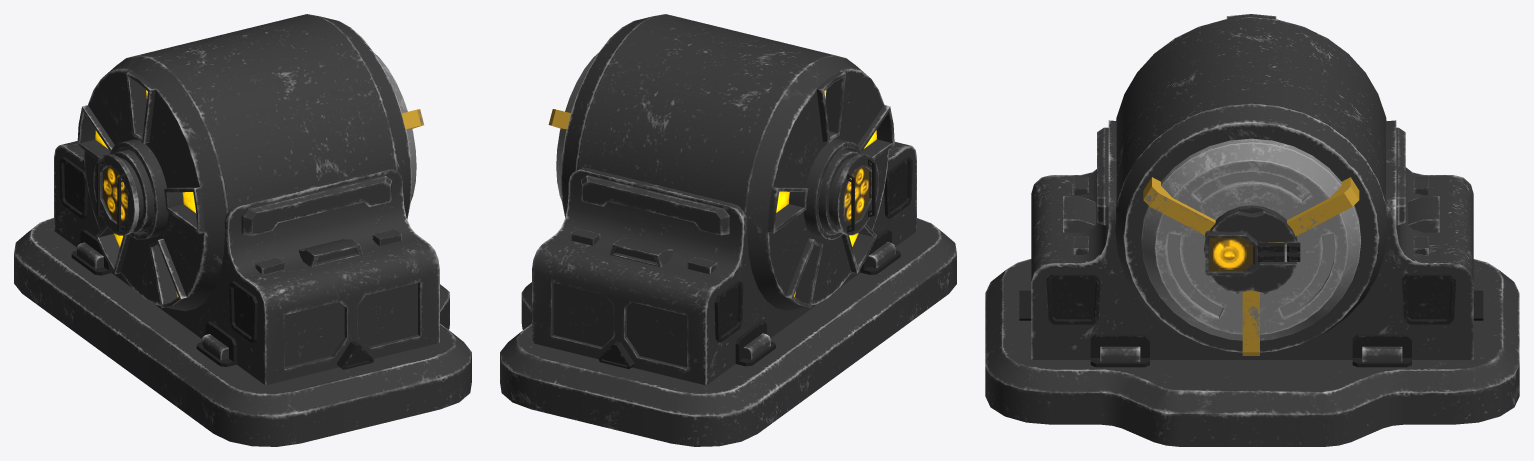
Rendered from simple_sci-fi_power_battery.glb.
The picture shows the model from 3 angles, left to right: view 1: azimuth 30°, elevation 25°; view 2: azimuth 150°, elevation 25°; view 3: azimuth 270°, elevation 25°; orthographic projection. The views are drawn at different scales.
Parts seen in each view (by area): view 1: Circle, Cube.004, Circle.001, Cube.005, Circle.004, Cube.012, Cube.008, Cube.006, Cube.011, Circle.002, Cube.007, Cube.010 (+1 smaller); view 2: Circle, Cube.004, Circle.001, Circle.004, Cube.005, Cube.012, Cube.008, Cube.006, Cube.011, Circle.002, Cube.007, Cube.010 (+1 smaller); view 3: Cube.004, Circle, Circle.001, Circle.002, Cube.012, Cube.003, Circle.003, Cube.008, Cube.006, Cube, Cube.005, Cube.011 (+3 smaller).
Part boxes in pixels (x1,y1,x2,y2): Circle: [77, 14, 411, 311]; Cube.004: [14, 217, 471, 446]; Circle.001: [54, 141, 439, 385]; Cube.005: [241, 174, 391, 235]; Circle.004: [93, 149, 153, 235]; Cube.012: [59, 157, 257, 343]; Cube.008: [71, 230, 236, 366]; Cube.006: [298, 239, 362, 267]; Cube.011: [76, 242, 228, 360]; Circle.002: [374, 53, 416, 201]; Cube.007: [255, 229, 401, 274]; Cube.010: [337, 341, 373, 369]; Circle: [561, 14, 894, 310]; Cube.004: [500, 218, 956, 446]; Circle.001: [532, 142, 916, 385]; Circle.004: [818, 149, 878, 235]; Cube.005: [581, 175, 729, 235]; Cube.012: [714, 157, 912, 342]; Cube.008: [735, 229, 900, 366]; Cube.006: [609, 238, 672, 267]; Cube.011: [743, 242, 895, 359]; Circle.002: [556, 53, 597, 201]; Cube.007: [571, 228, 717, 274]; Cube.010: [598, 341, 634, 368]; Cube.004: [985, 259, 1519, 446]; Circle: [1115, 14, 1387, 352]; Circle.001: [1031, 120, 1473, 359]; Circle.002: [1141, 138, 1360, 340]; Cube.012: [1046, 274, 1455, 324]; Cube.003: [1143, 177, 1359, 355]; Circle.003: [1204, 205, 1297, 294]; Cube.008: [1090, 334, 1411, 367]; Cube.006: [1063, 196, 1439, 232]; Cube: [1205, 230, 1257, 275]; Cube.005: [1097, 127, 1405, 225]; Cube.011: [1100, 346, 1402, 362].
Size of the model in its own units: 4.78 by 4.33 by 6.93.
1 material, 1 textured.
